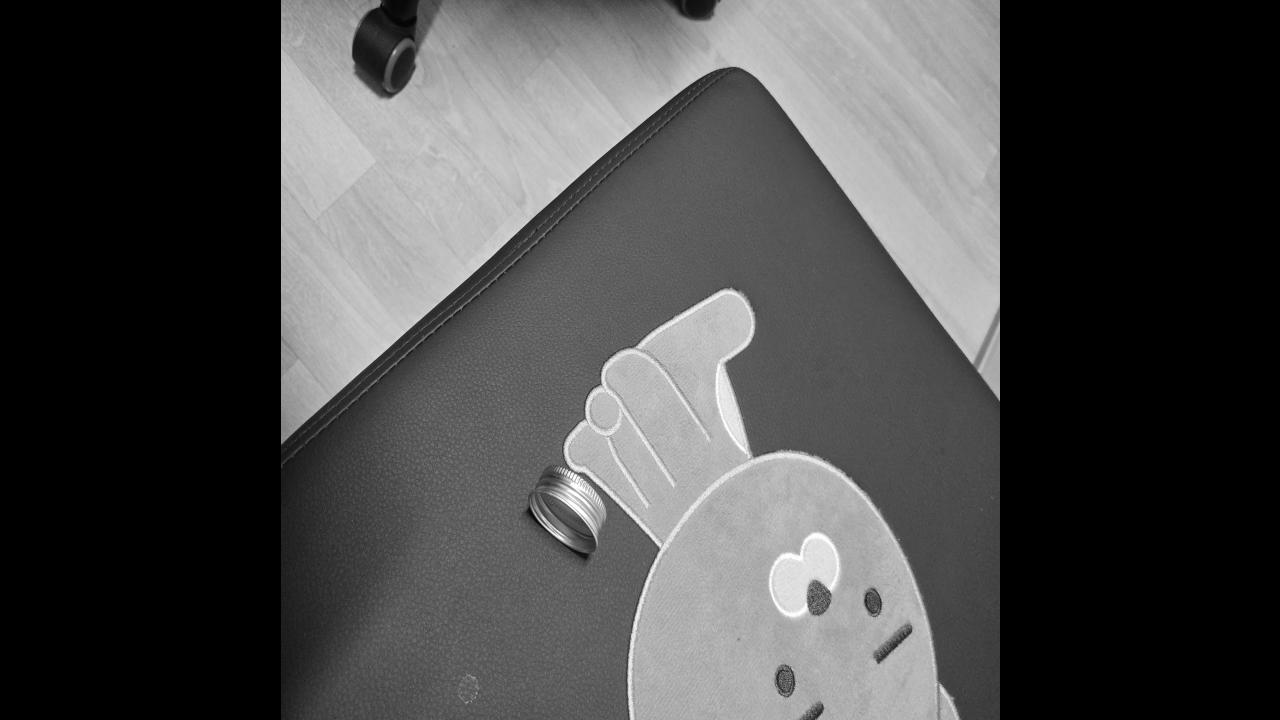bottle_cap: (532, 466, 604, 552)
